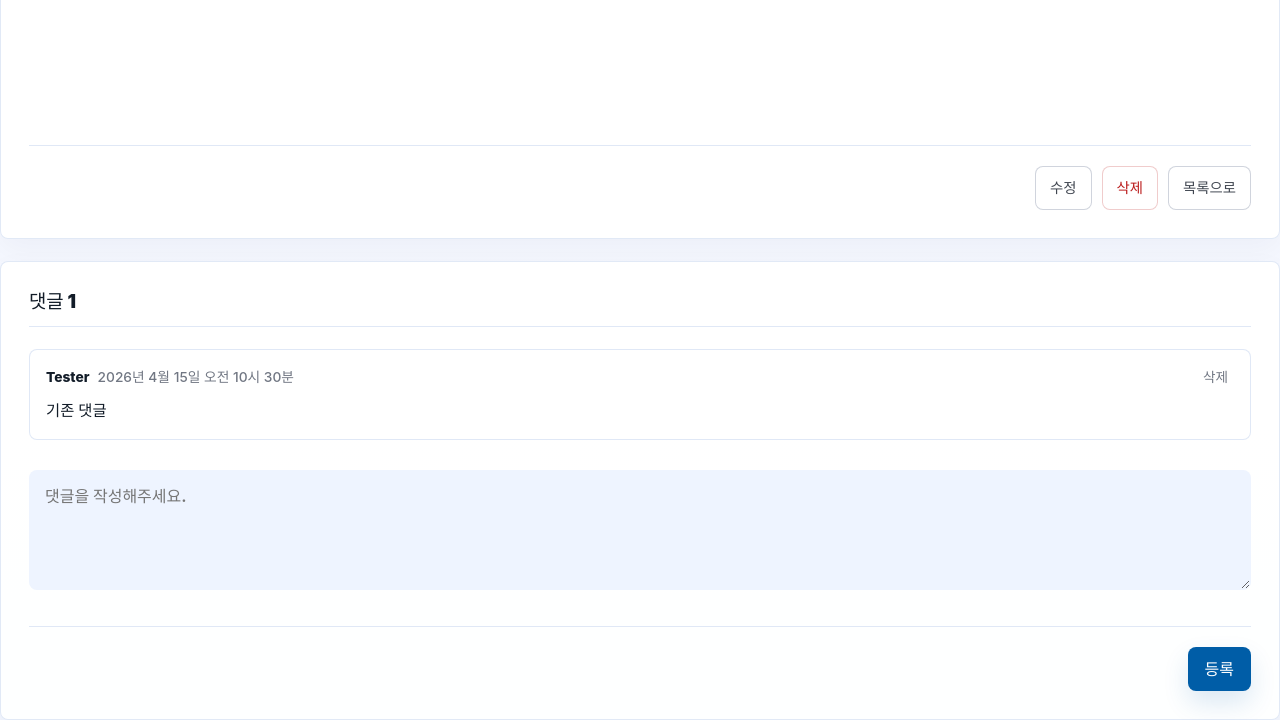
Test case: CommunityDetailPage › should_submit_comment_and_reload_first_page_when_authenticated_user_creates_comment
(page scrolled)
expect the text "기존 댓글" is shown: met, box [46, 401, 107, 420]
Type "새 댓글" into the text box with placeholder "댓글을 작성해주세요.".
click(640, 530); type("새 댓글")  # box [29, 470, 1251, 590]
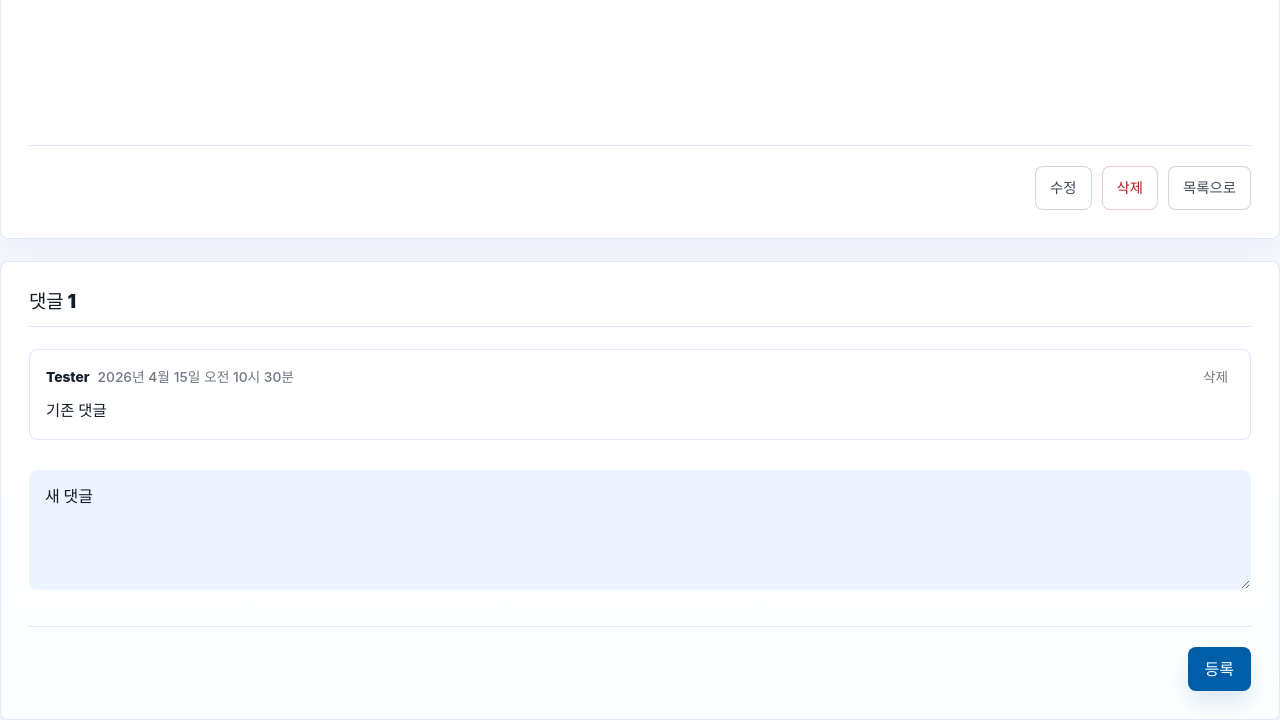
Click the button "등록".
click(1219, 669)  # box [1188, 647, 1251, 691]
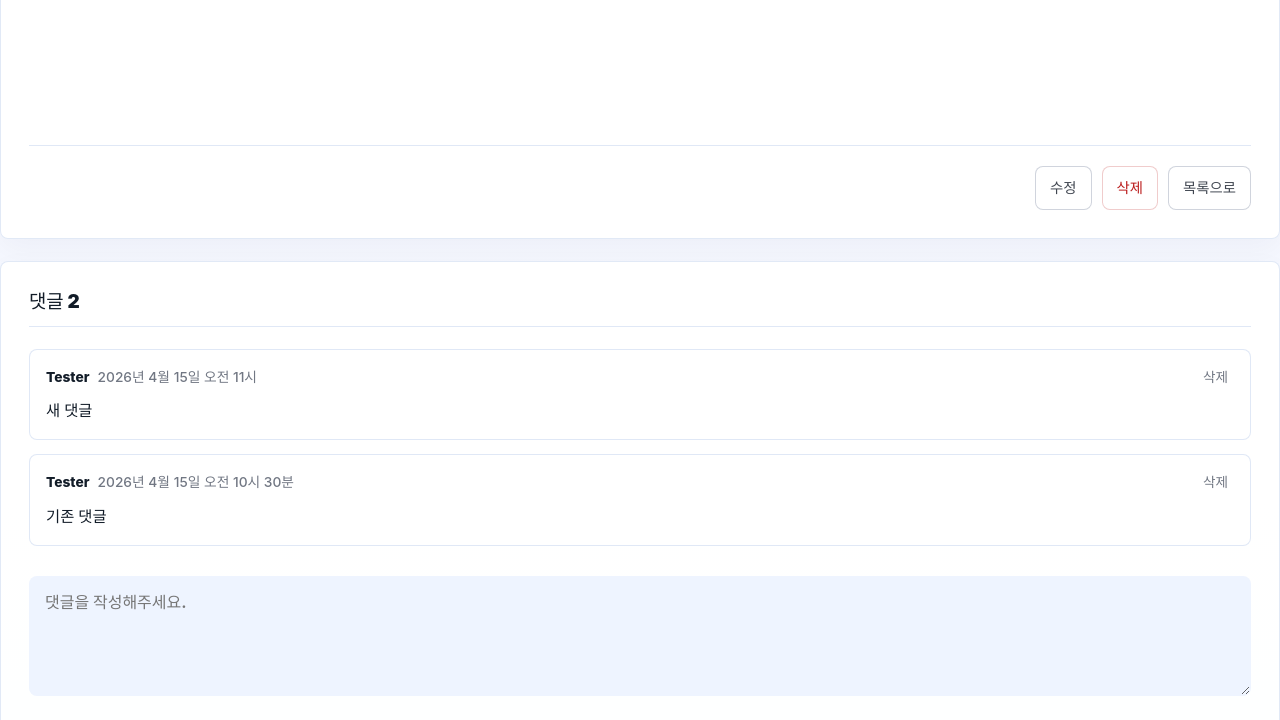
expect the text "새 댓글" is shown: met, box [46, 401, 92, 420]
